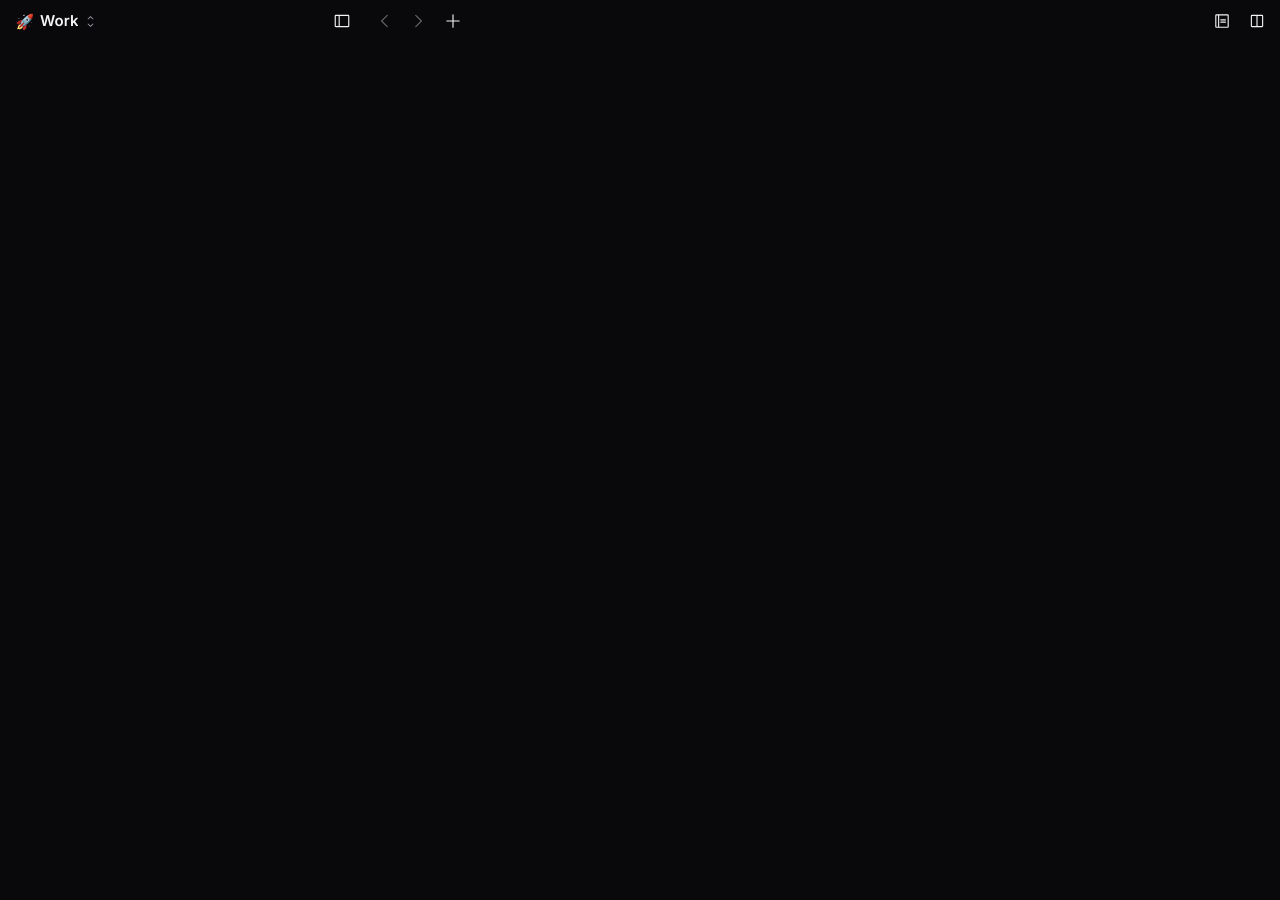
TopBar › test top bar space button, create new tab label and sidepanel tooltips
The width and height of the screenshot is (1280, 900).
Later steps or results of the test are not shown.
Click the button titled "Change space".
click(56, 21)  # box [10,6,103,36]
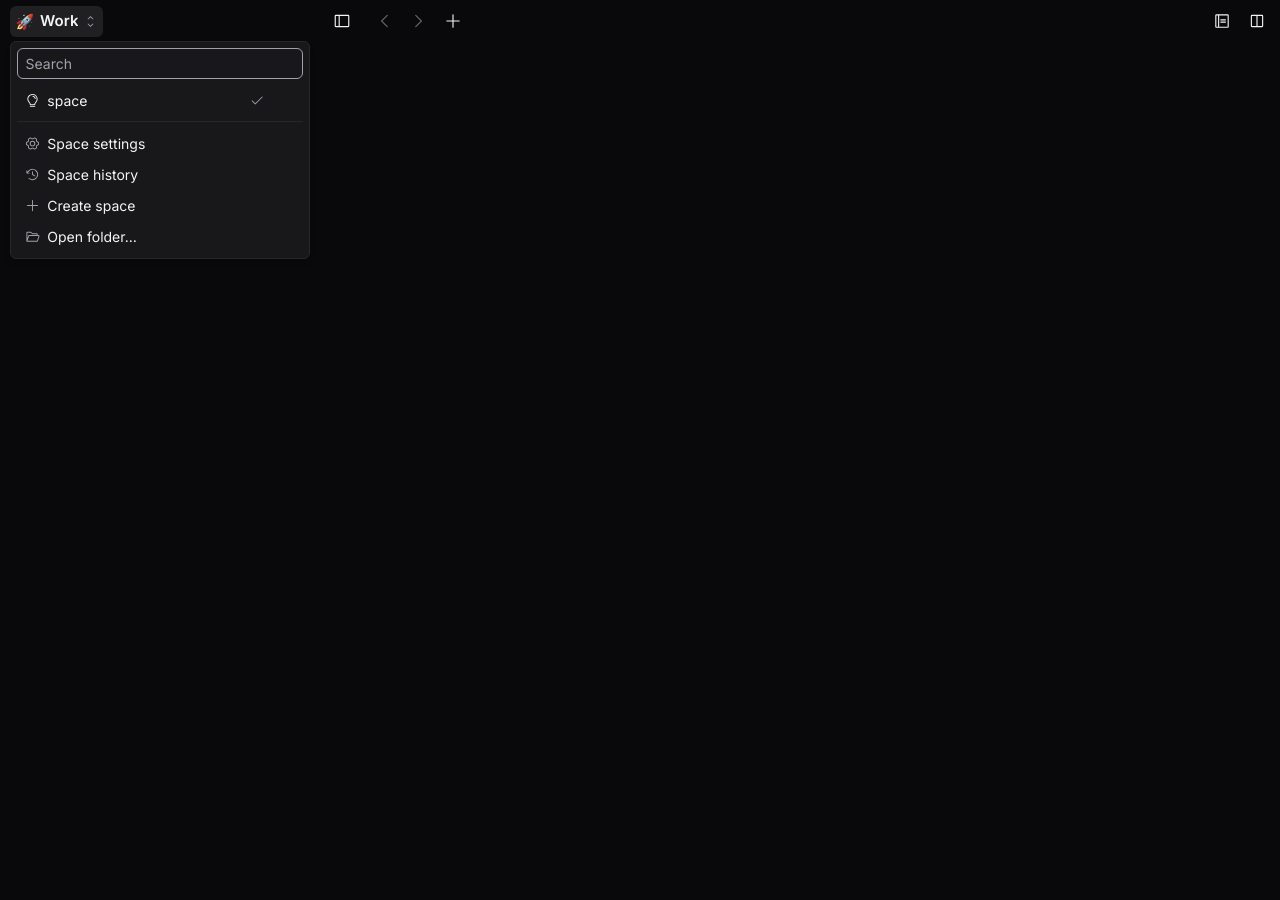
expect the list named "Spaces" is shown: met, box [17,85,303,116]
